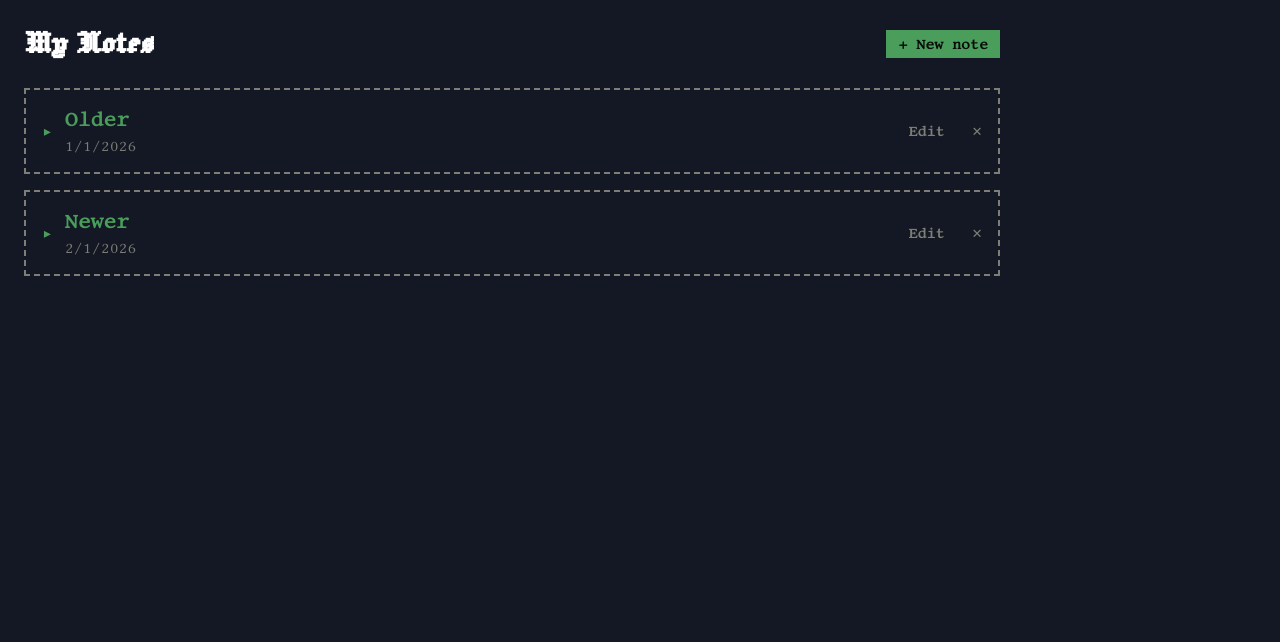
Notes › falls back to the offline queue when a create fails at the network level
The width and height of the screenshot is (1280, 642).
Expected: the text "Older" is shown, [65,106,136,134]
Click the button "+ New note" at (943, 44), box [886,30,1000,58]
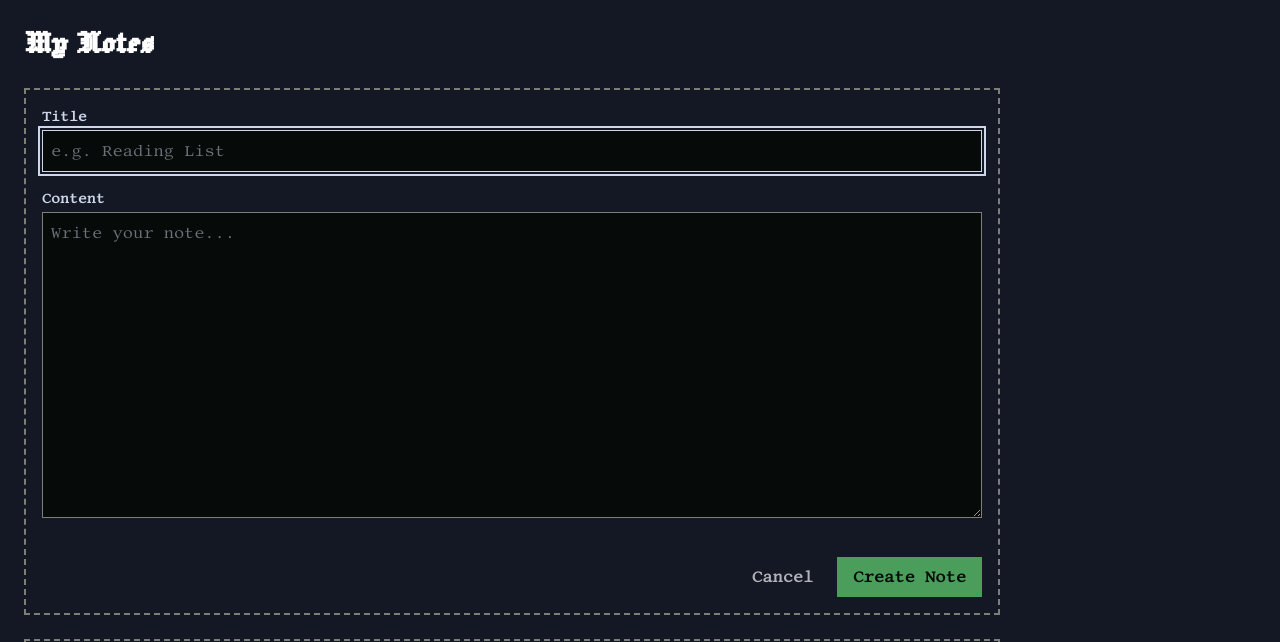
Type "Flaky note" into the field with placeholder "e.g. Reading List" at (512, 151), box [42,130,982,172]
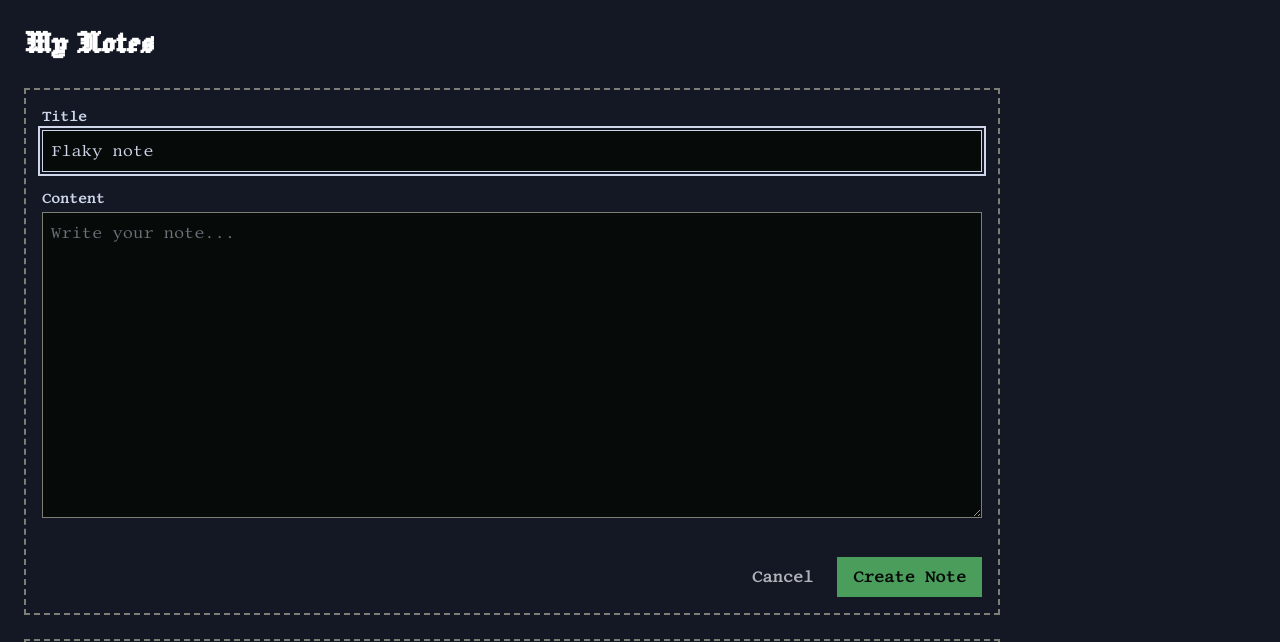
Click the button "Create Note" at (910, 577), box [837,557,982,597]
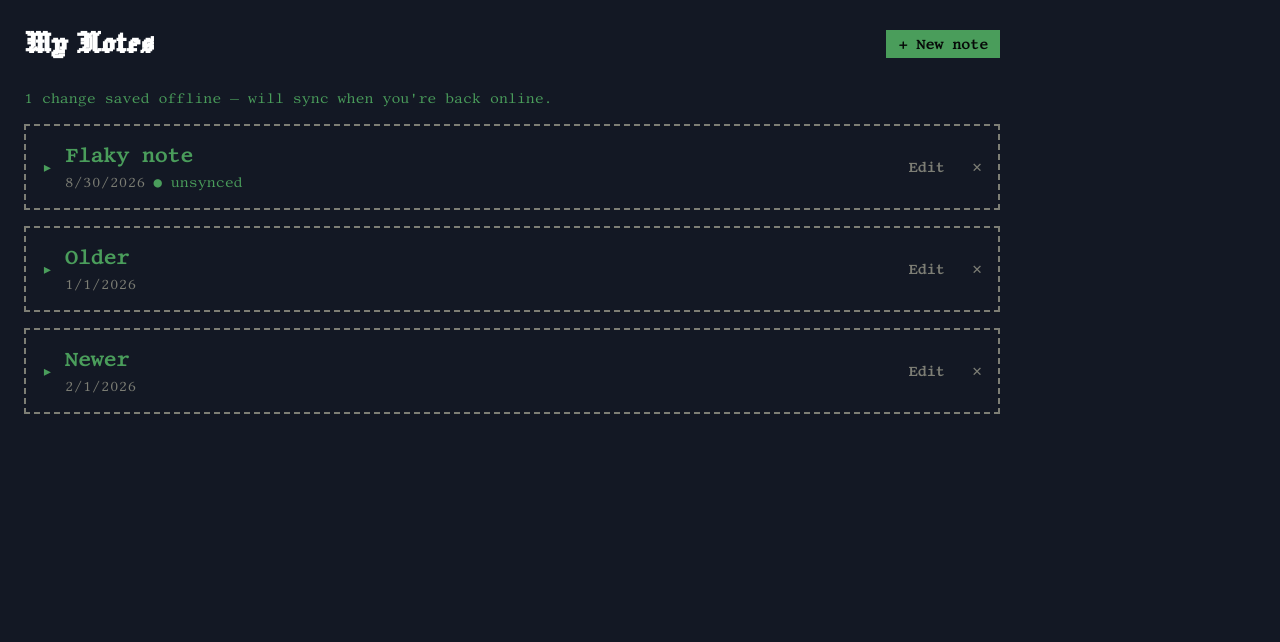
Expected: the text "Flaky note" is shown, [65,144,193,167]
Expected: the text "● unsynced" is shown, [154,174,243,190]
